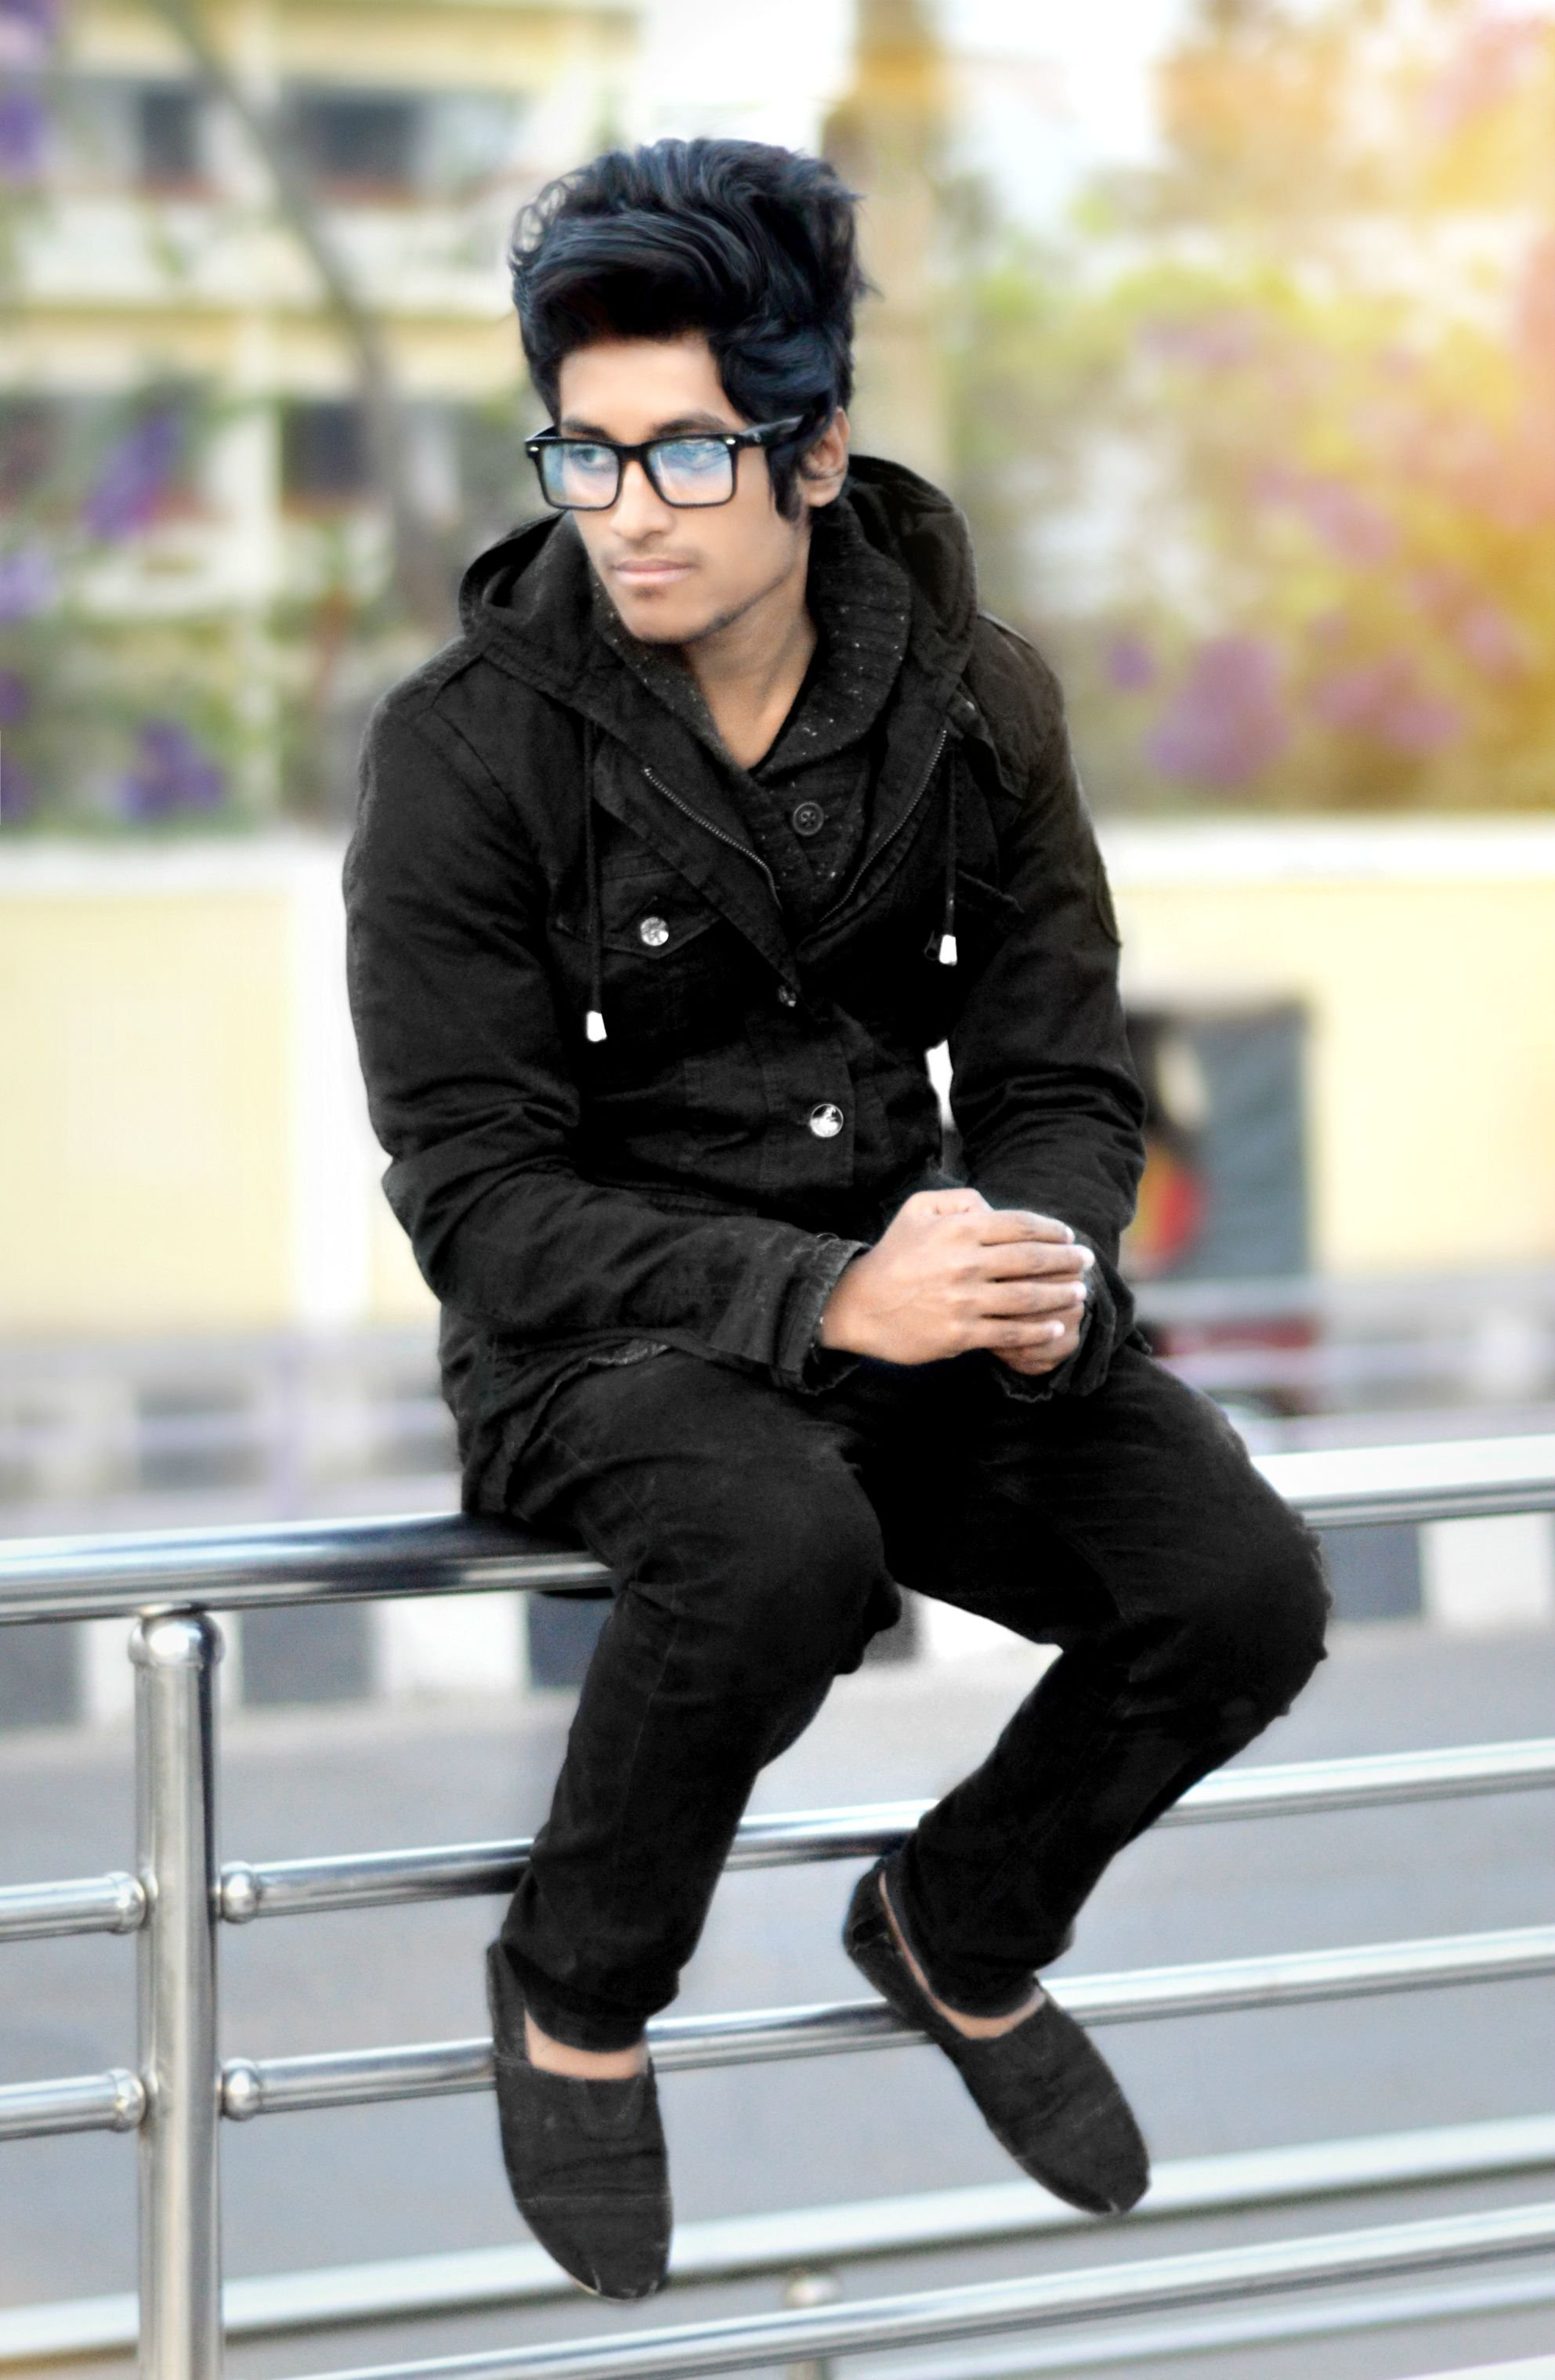noMask: (433, 110, 908, 682)
